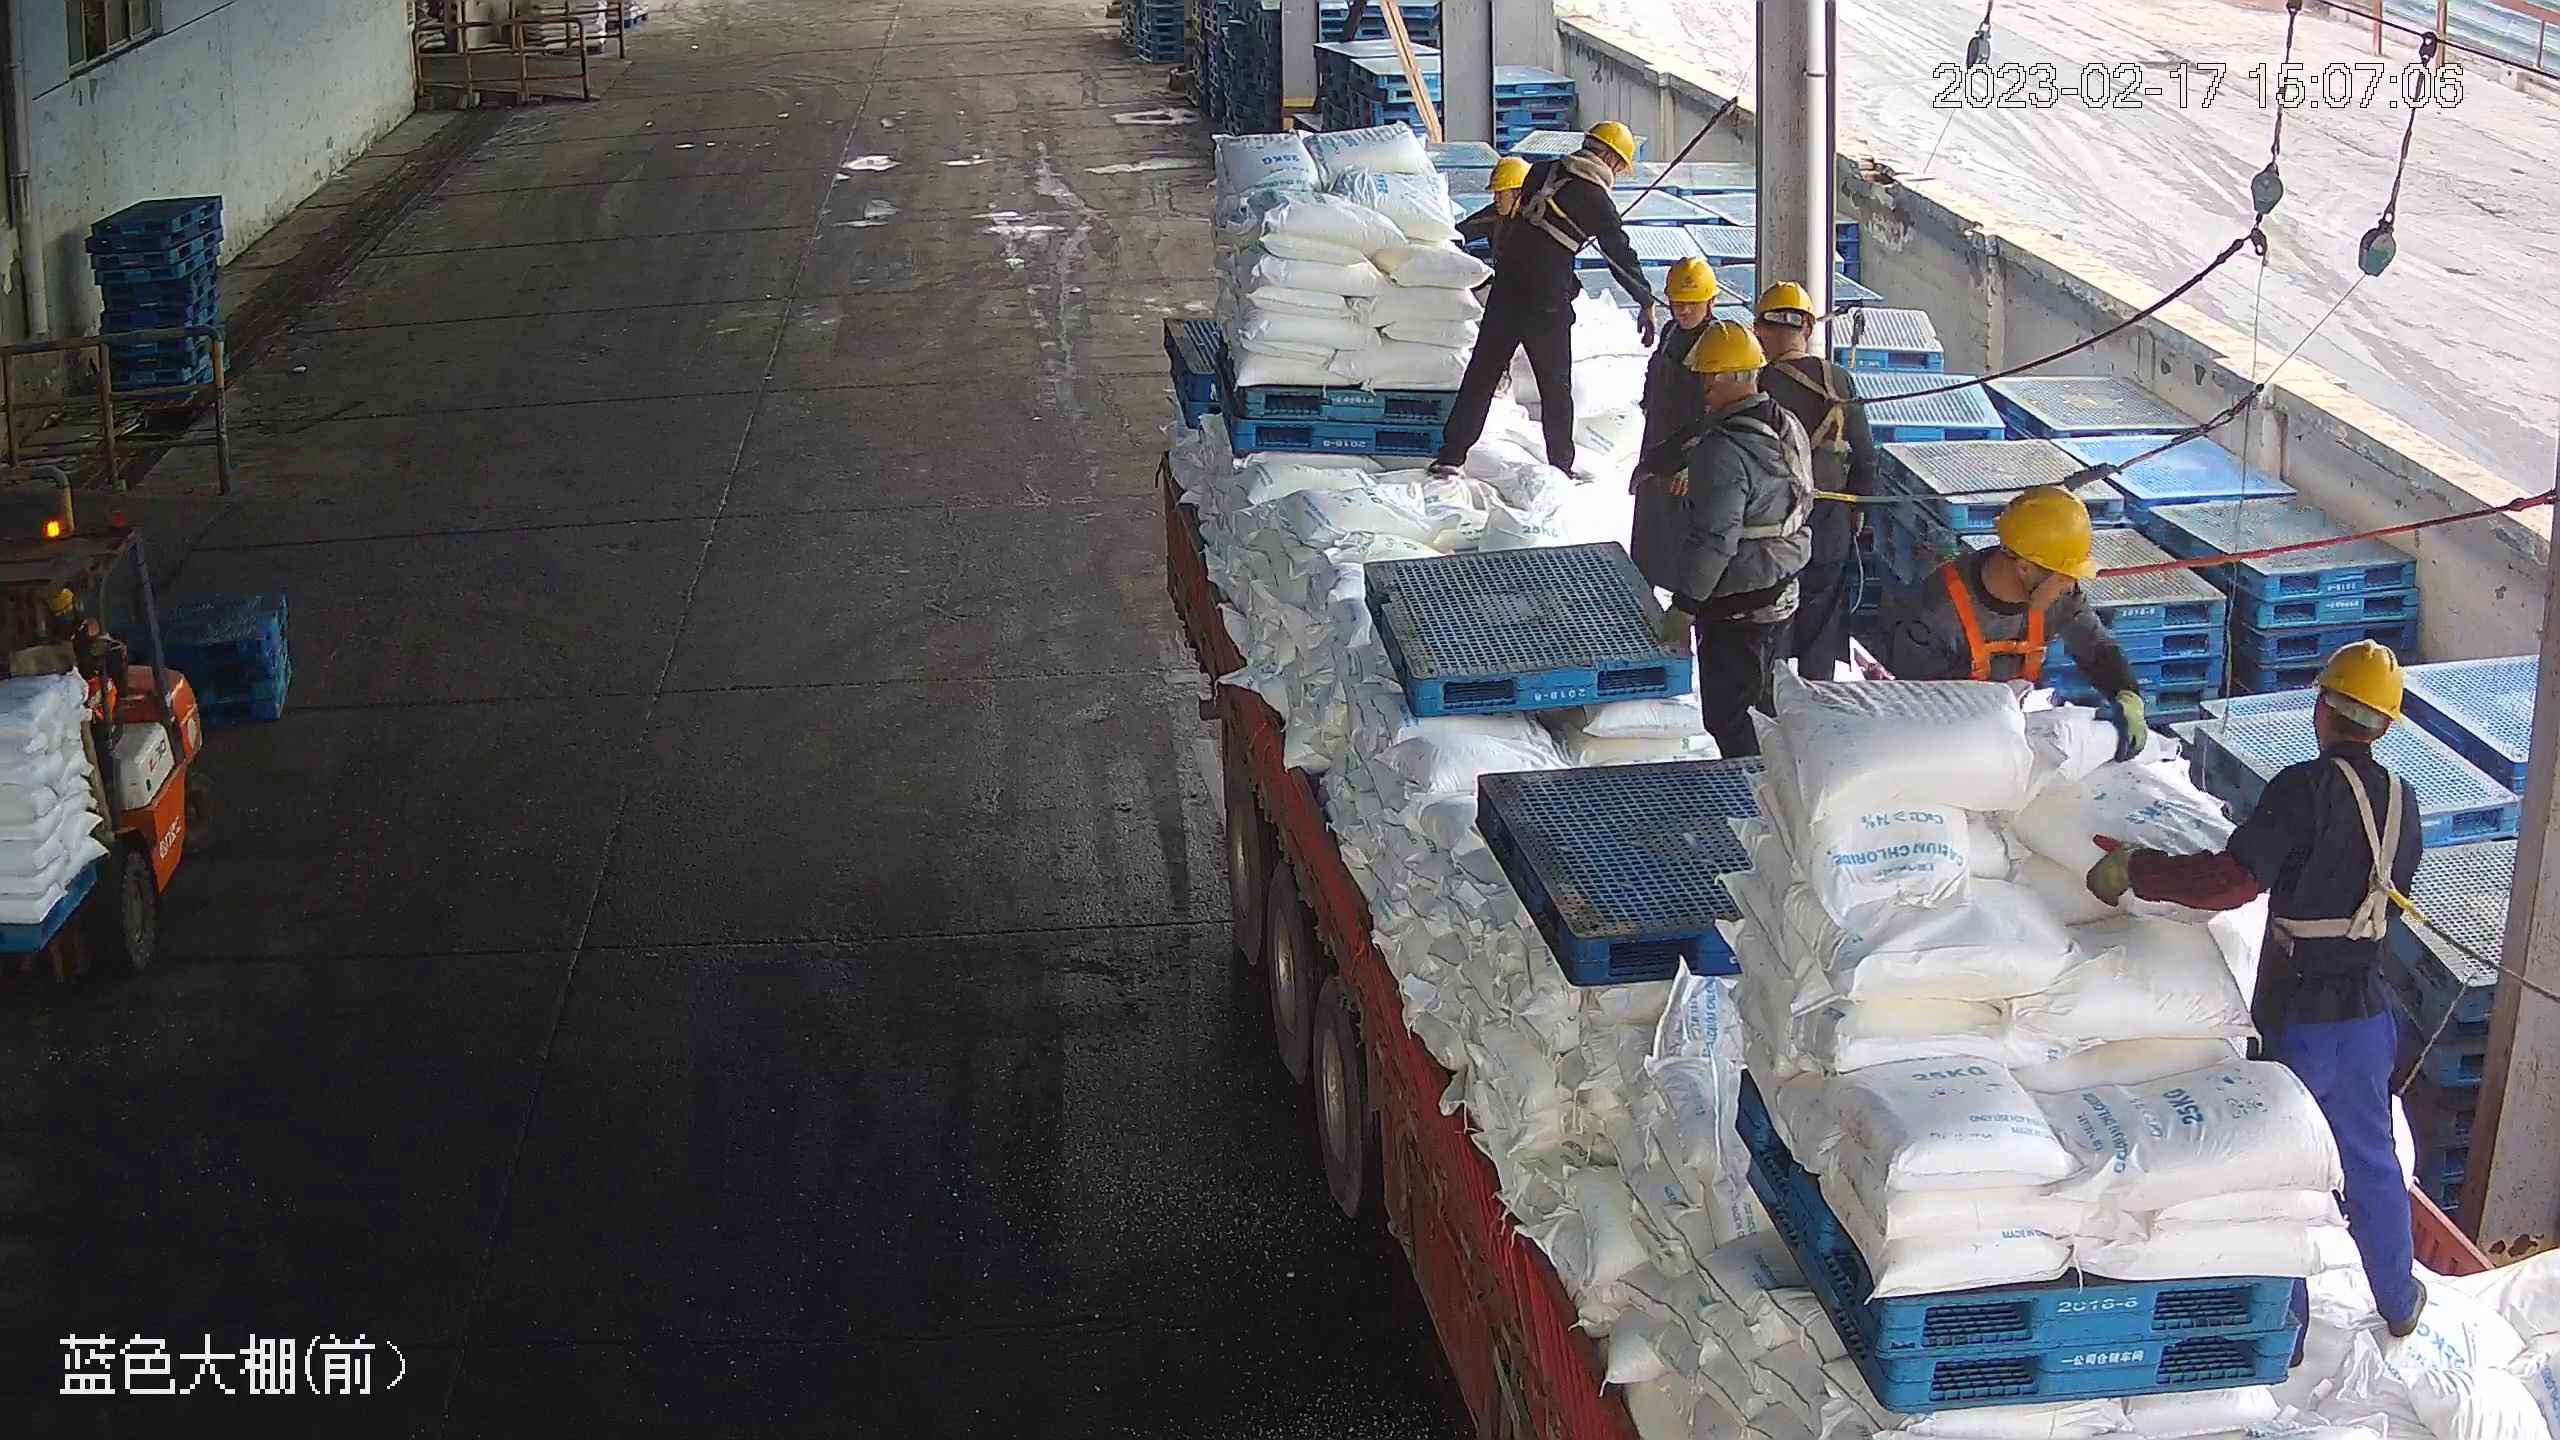belt: (2259, 761, 2438, 955), (1727, 405, 1853, 552), (1932, 567, 2063, 686), (1776, 348, 1877, 465), (1519, 158, 1590, 260), (1654, 323, 1723, 373)
head: (2219, 637, 2420, 847), (1916, 486, 2119, 662), (1670, 319, 1809, 472), (1754, 280, 1864, 414), (1530, 120, 1642, 228), (1652, 250, 1738, 372)
helmet: (1991, 487, 2098, 582), (2321, 639, 2407, 718), (1690, 321, 1769, 377), (1582, 119, 1636, 175), (1751, 282, 1818, 326), (1661, 254, 1718, 305), (1486, 157, 1532, 187)
people: (2095, 642, 2440, 1335), (1425, 117, 1654, 478), (1659, 322, 1815, 740), (1754, 278, 1876, 684), (1634, 256, 1729, 581)
truck: (1156, 406, 2560, 1440)
